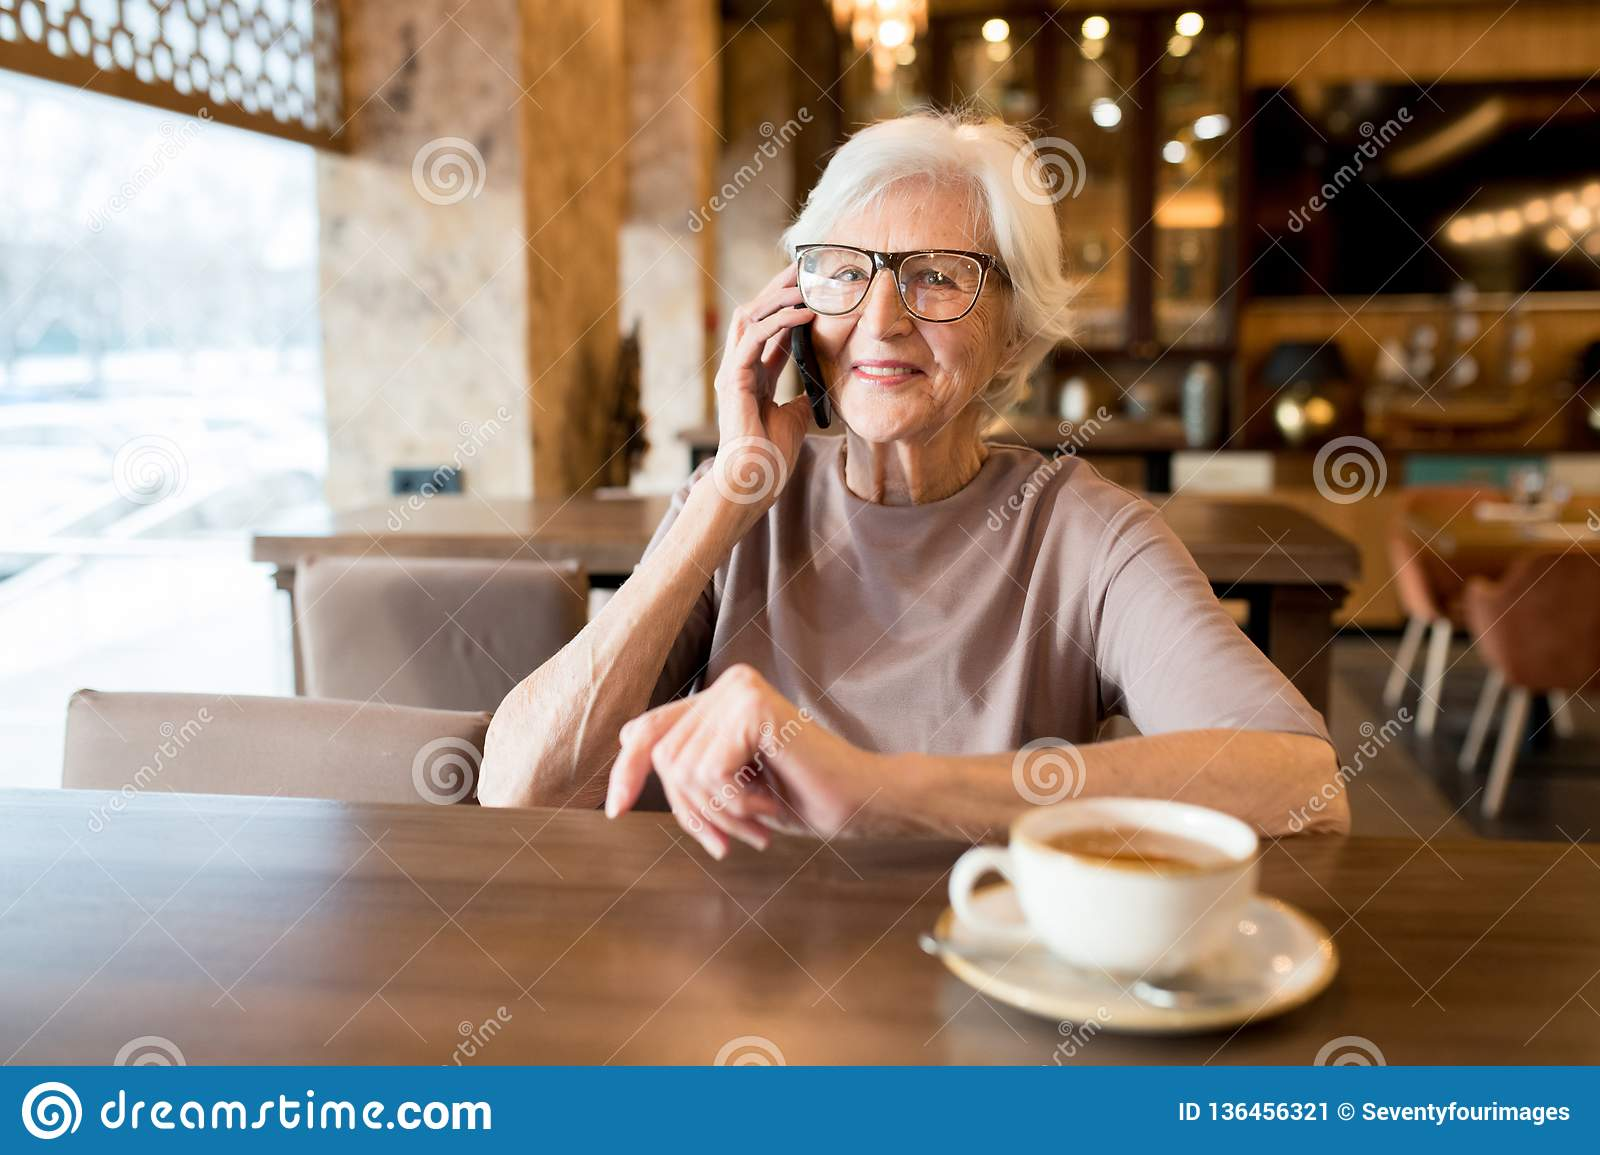phone: (780, 291, 835, 432)
talk: (707, 225, 985, 519)
